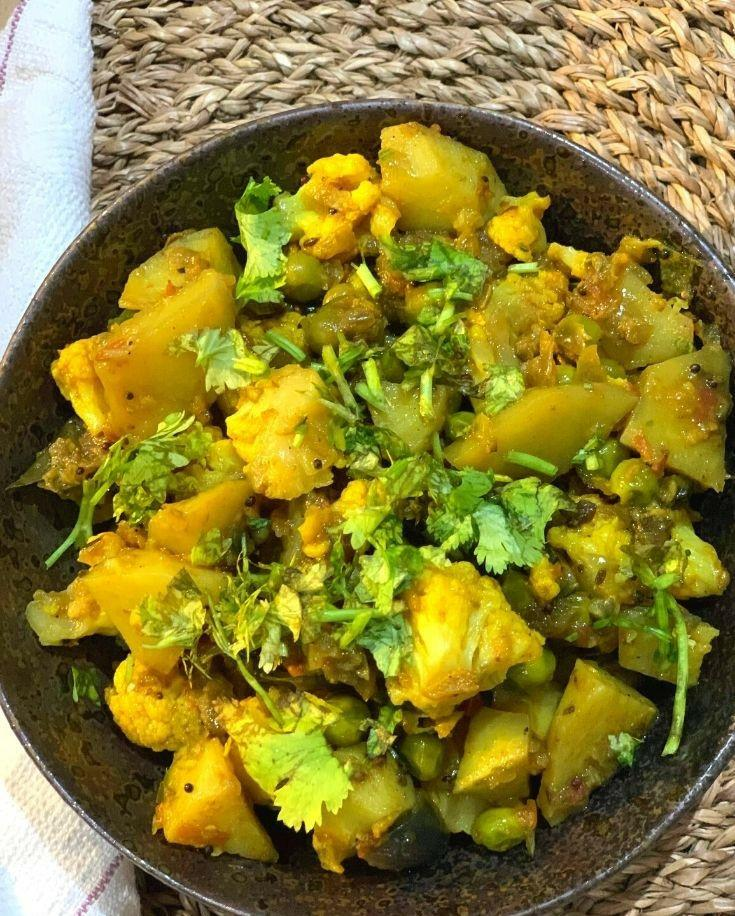AlooGobi: (26, 126, 731, 870)
